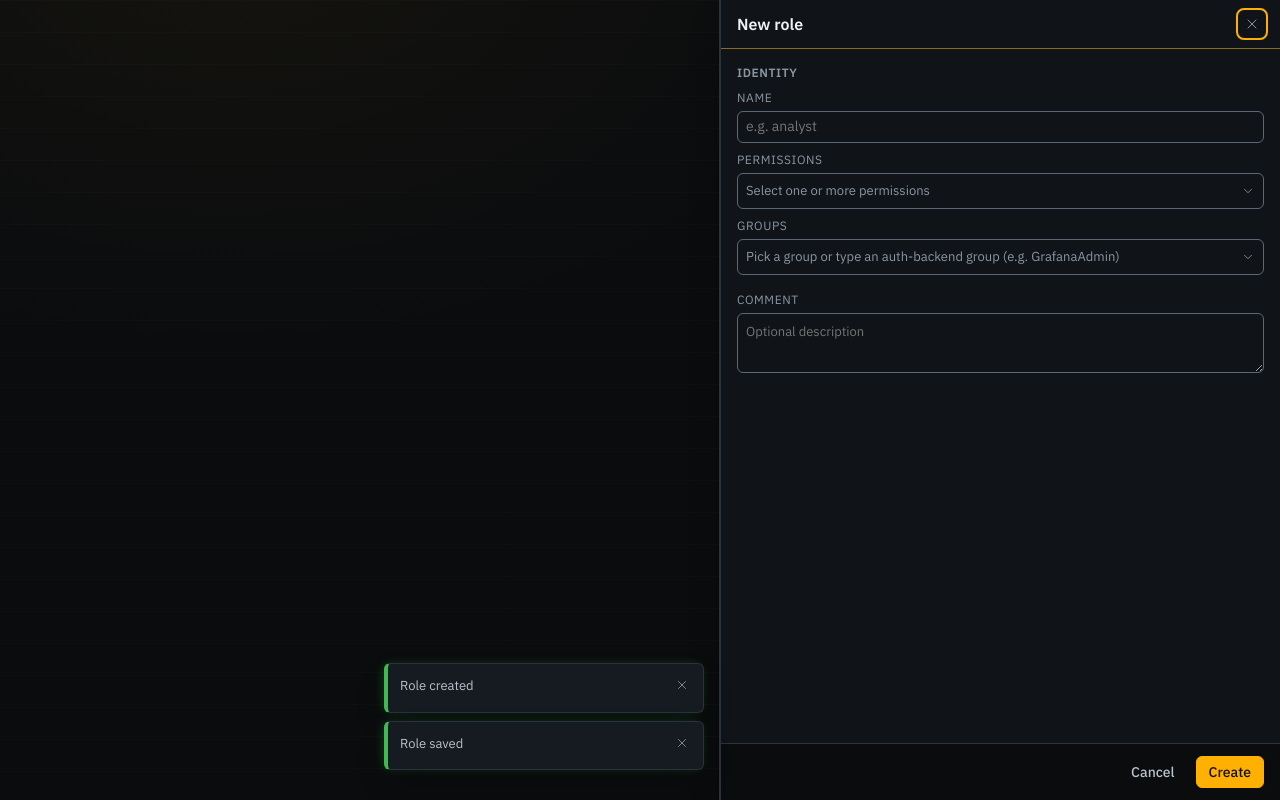
Test: RoleEditor › suggests groups from the Groups menu and from users' identities
The image size is (1280, 800).
Click the dropdown named "groups".
click(1000, 257)  # box [737,239,1264,275]
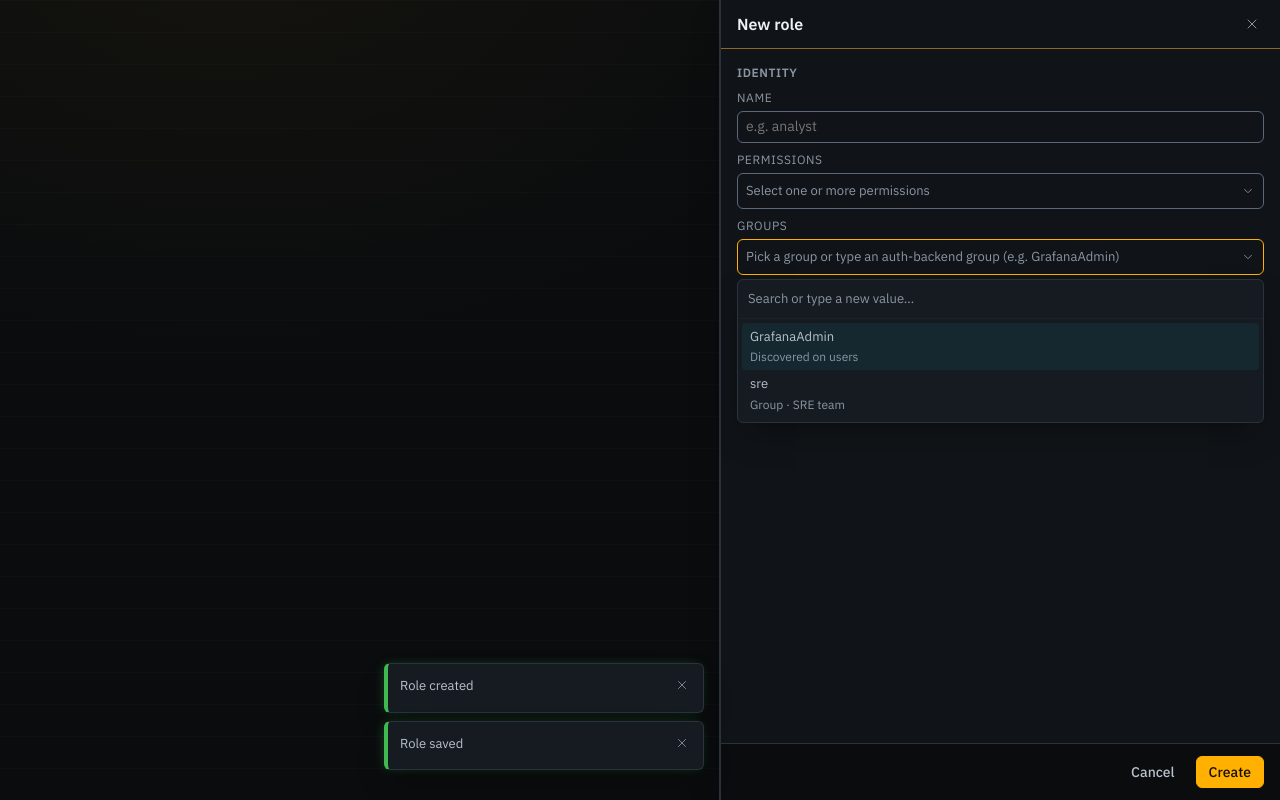
Result: the option "sre Group · SRE team" is shown at [750,375,845,412]
Result: the option "GrafanaAdmin Discovered on users" is shown at [742,322,1259,370]
